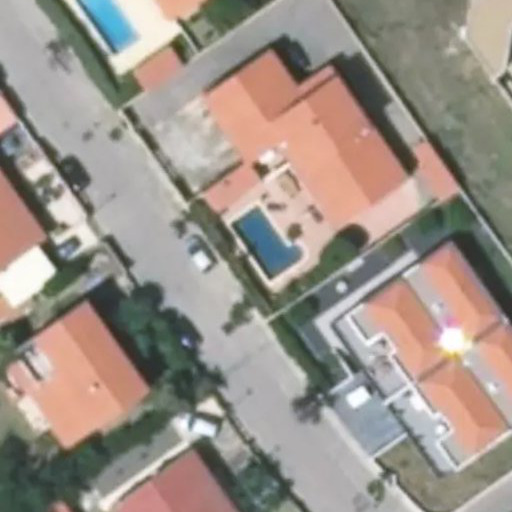pool: (231, 205, 306, 280), (71, 2, 141, 55)
